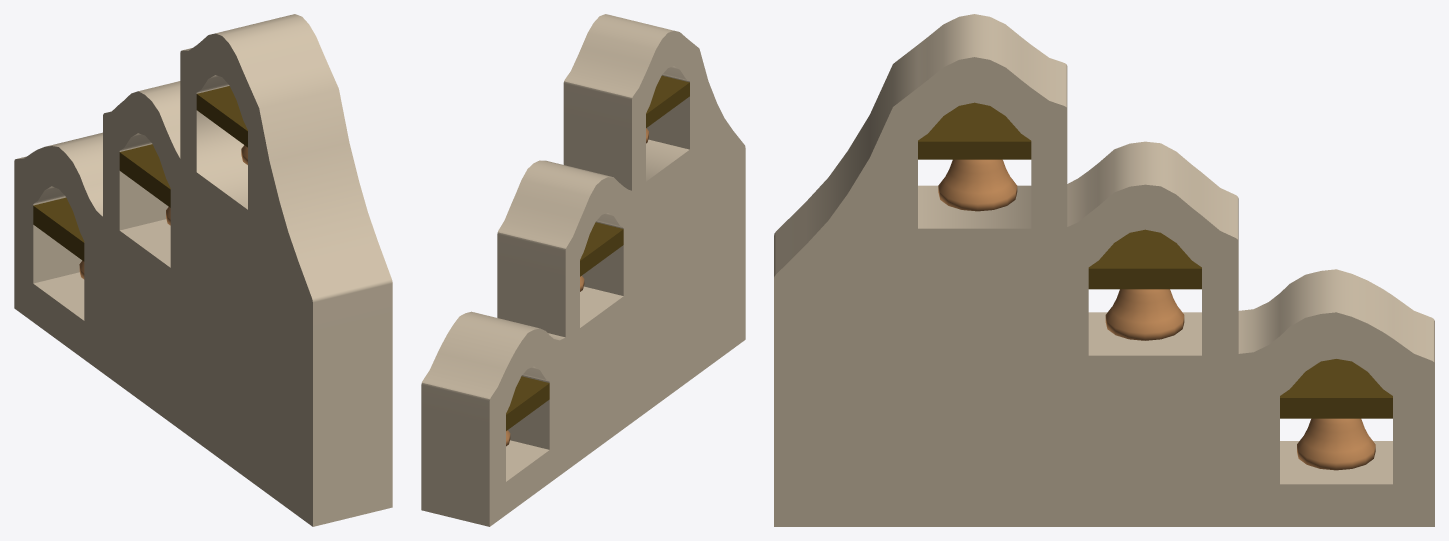
The model's file is Bell-Tower.fbx.
The picture shows the model from 3 angles, left to right: view 1: azimuth 30°, elevation 25°; view 2: azimuth 150°, elevation 25°; view 3: azimuth 270°, elevation 25°; orthographic projection. The views are drawn at different scales.
Parts seen in each view (by area): view 1: pCube8; view 2: pCube8; view 3: pCube8.
Boxes of the visible parts, x1=… form: pCube8: x1=14, y1=14, x2=392, y2=526; pCube8: x1=421, y1=14, x2=745, y2=526; pCube8: x1=774, y1=14, x2=1434, y2=526.
Size of the model in its own units: 2.81 by 13.09 by 16.69.
